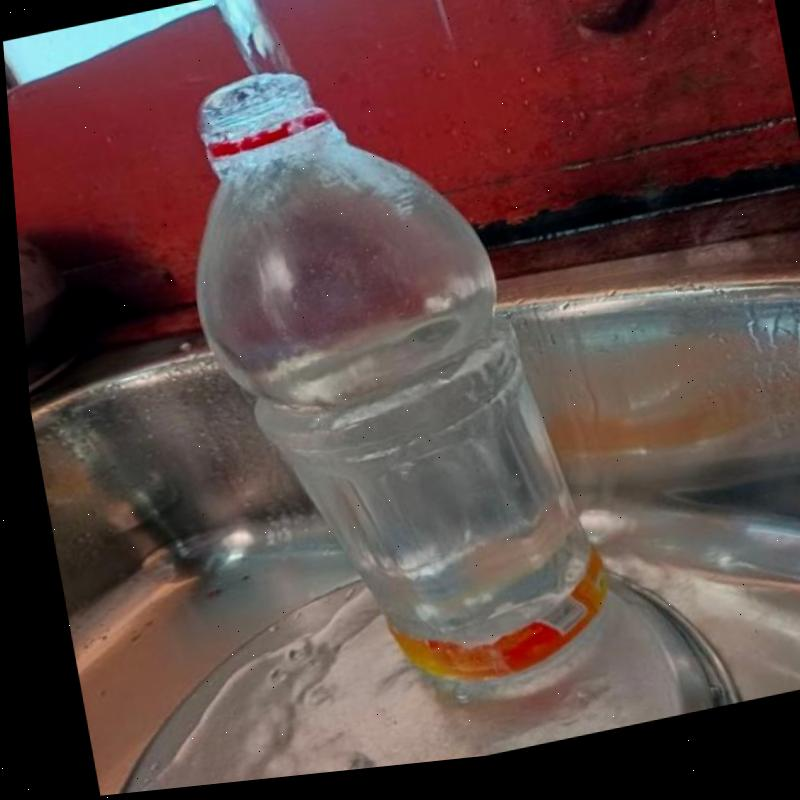botella: (155, 34, 623, 754)
